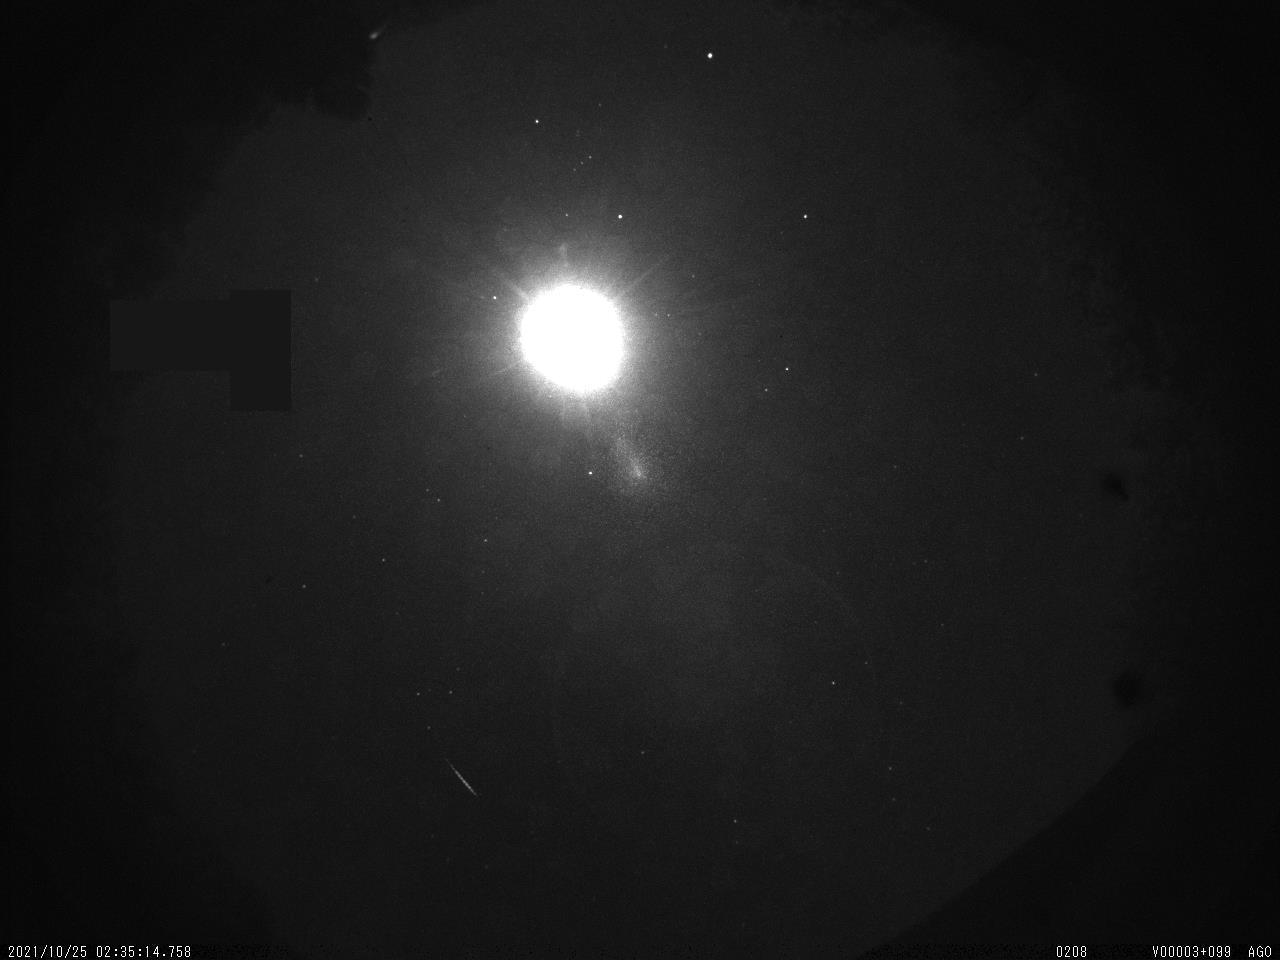meteor: (420, 741, 507, 825)
